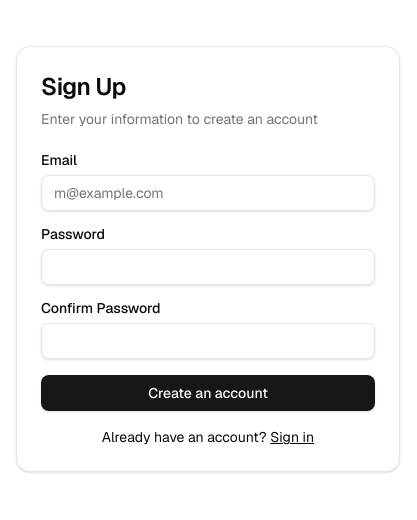
Test: SignUp Page › shows validation error for invalid email format
This screenshot has width=417, height=520.
Step 1. Type "invalid-email" into the field labelled "Email" → x=208, y=193, box [41,175,375,211]
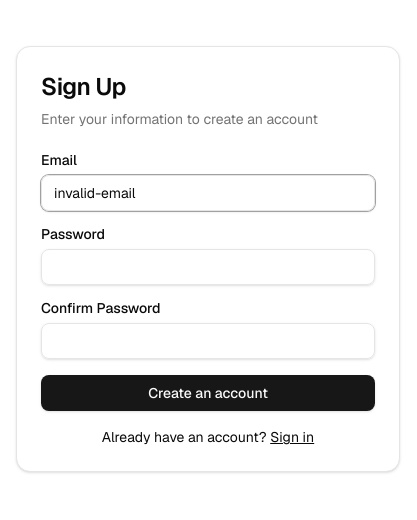
Step 2. Click the button "Create an account" → x=208, y=393, box [41,375,375,411]
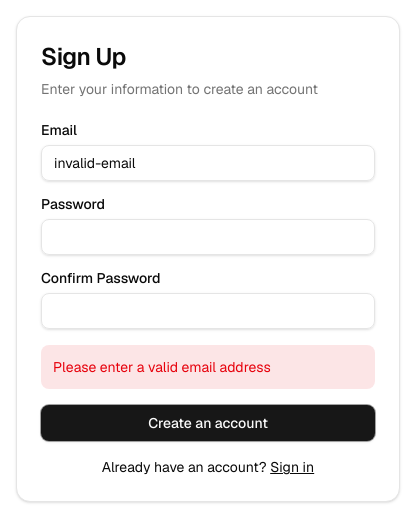
Expected: the message shows "valid email", [53,358,271,376]
